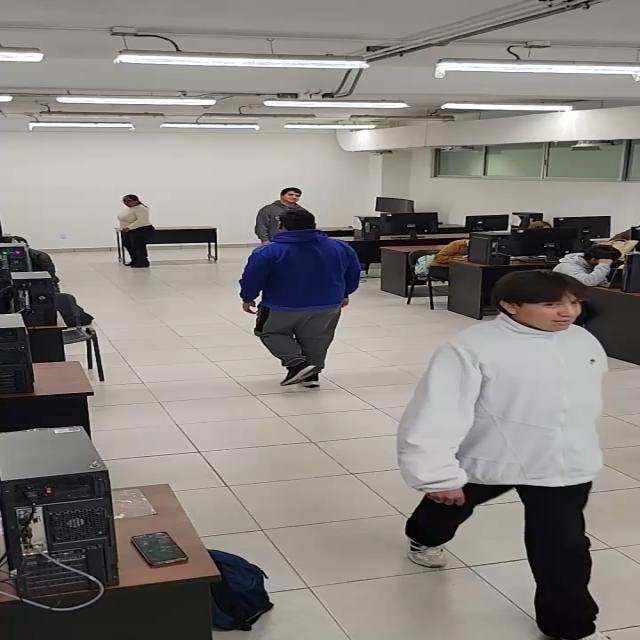Persona: (395, 266, 640, 639), (231, 209, 365, 392), (111, 189, 165, 272), (249, 179, 316, 244)
